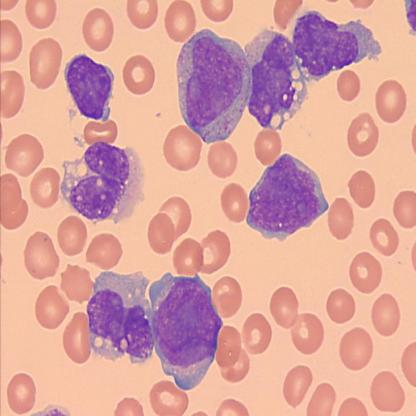Blast: (174, 26, 252, 146), (146, 271, 223, 391), (59, 137, 150, 225), (246, 152, 330, 244), (86, 265, 157, 365), (244, 28, 310, 134), (292, 9, 384, 83), (62, 52, 116, 126)
